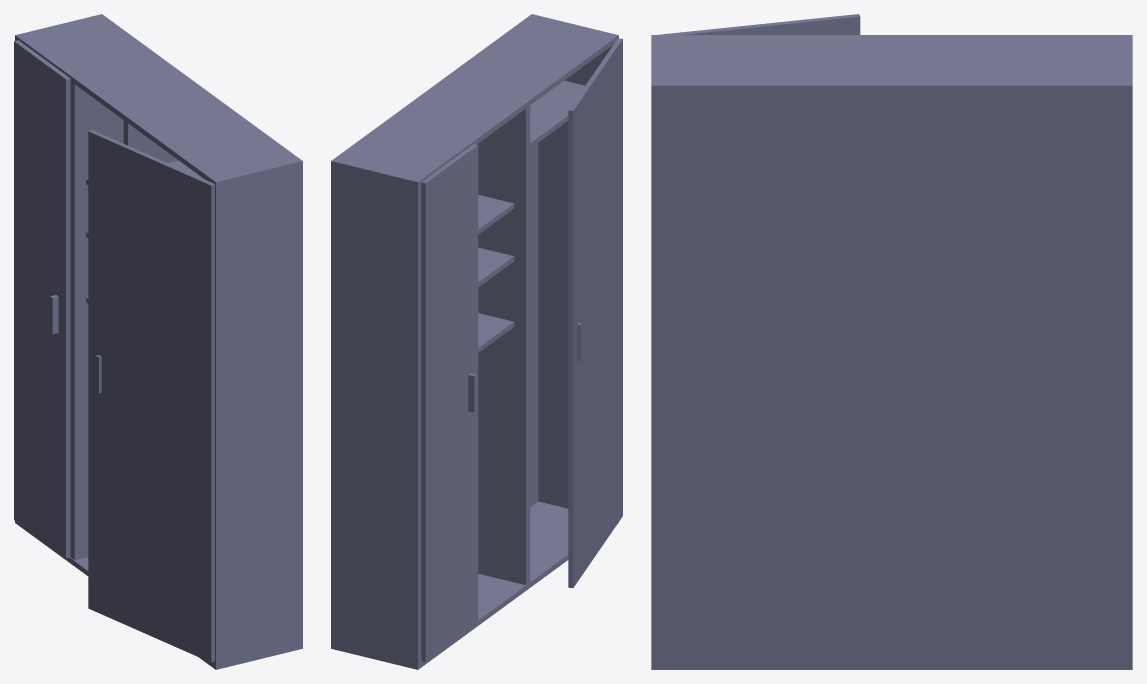
Rendered from cabinet.fbx.
3 views of the same model, side by side, from view 1: azimuth 30°, elevation 25°; view 2: azimuth 150°, elevation 25°; view 3: azimuth 270°, elevation 25° (orthographic). The views are drawn at different scales.
Parts seen in each view (by area): view 1: cabinet; view 2: cabinet; view 3: cabinet.
Boxes of the visible parts, x1,y1,x2,y2 form: cabinet: [14, 14, 302, 669]; cabinet: [331, 14, 622, 669]; cabinet: [651, 14, 1132, 669].
Size of the model in its own units: 73.56 by 268 by 200.
